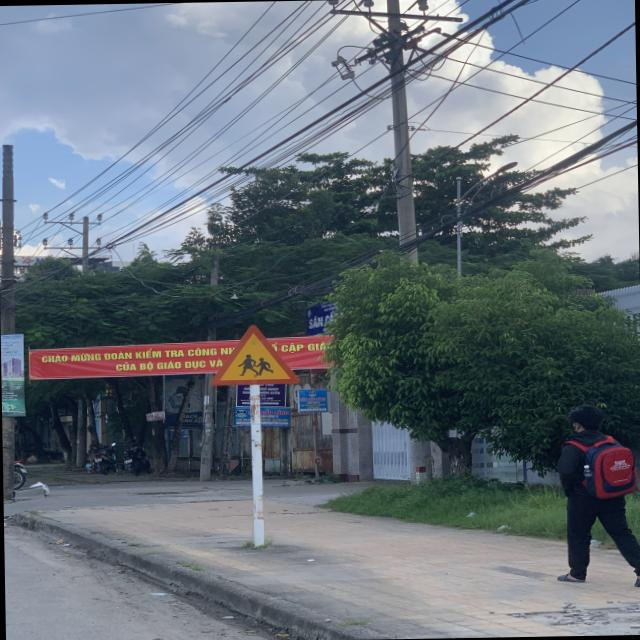Vong_Xuyen: (210, 324, 300, 386)
